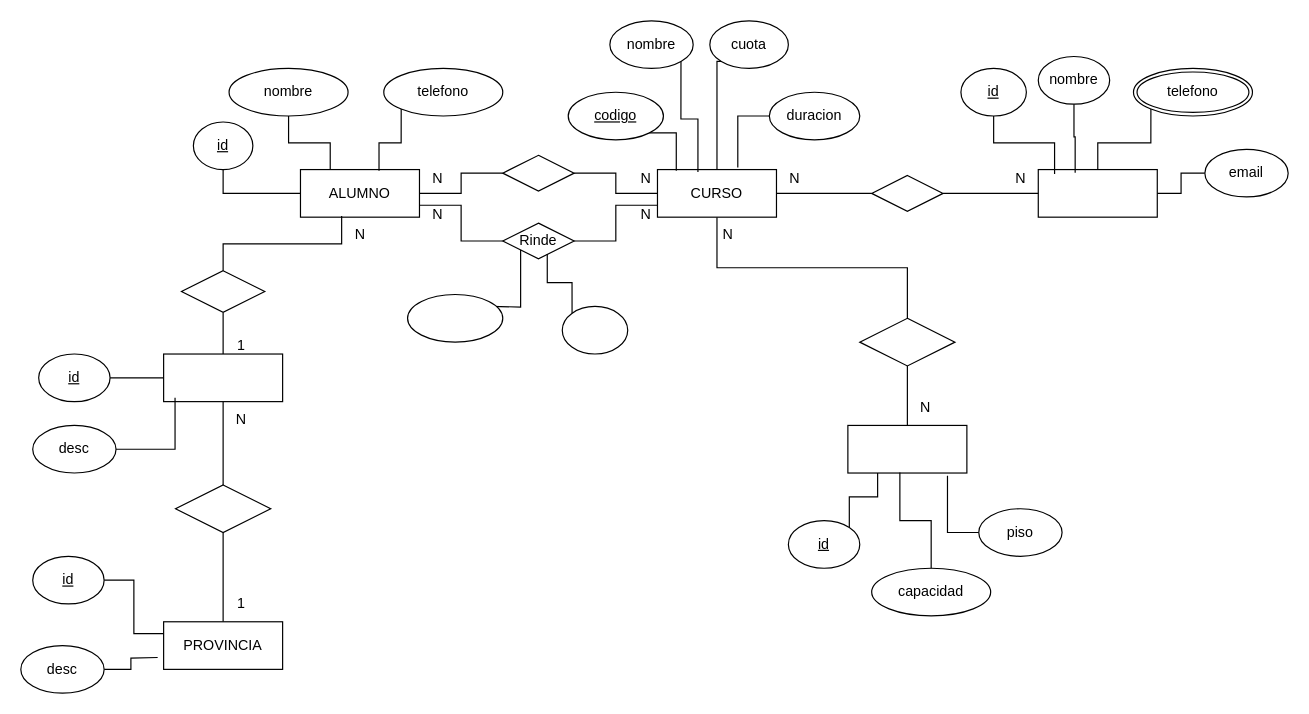
Image size: 1309x714. Some labels were removed from this diagram. Here are the shapes that lost their labels. From the top down, the centre of each, then its label:
pixel 538 172: Cursa
pixel 906 192: Dictado por
pixel 1097 192: INSTRUCTOR
pixel 222 291: Proviene de
pixel 454 317: fecha
pixel 594 329: nota
pixel 907 341: Se desarrolla en
pixel 222 377: LOCALIDAD
pixel 907 448: AULA
pixel 222 508: Pertenece a
